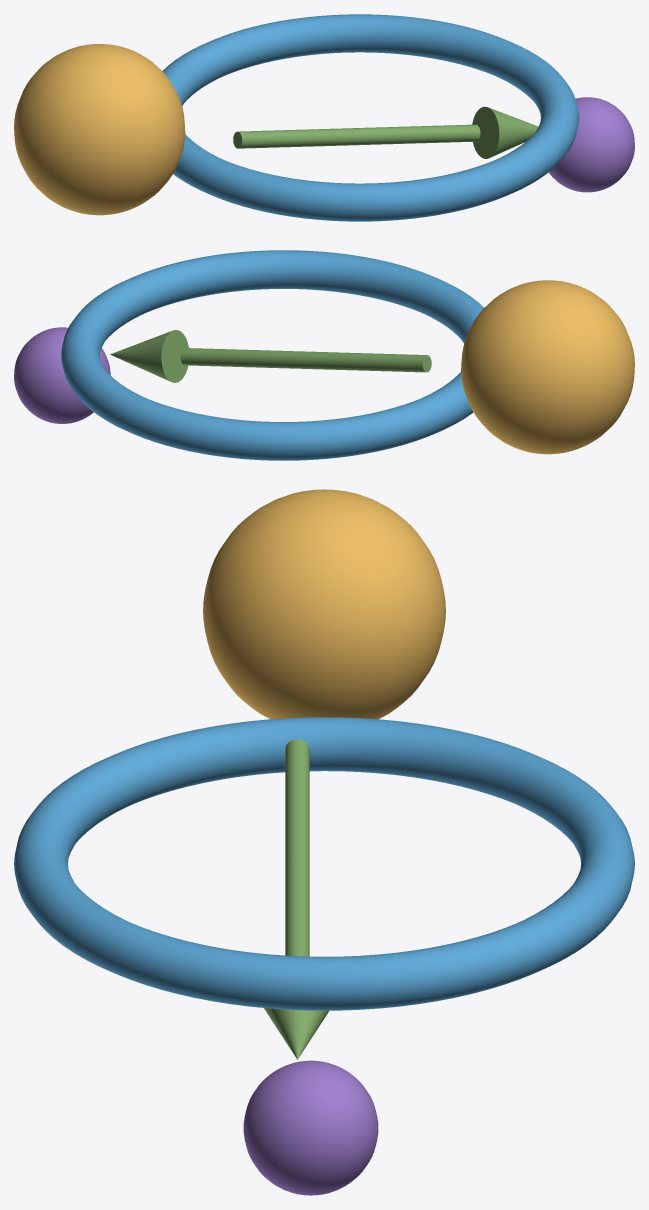
Rendered from biology-health-vaccine.glb.
3 renders of one model, top to bottom at view 1: azimuth 30°, elevation 25°; view 2: azimuth 150°, elevation 25°; view 3: azimuth 270°, elevation 25°, orthographic. The views are drawn at different scales.
Parts seen in each view (by area): view 1: immune-shield-ring, safe-antigen-marker, memory-cell-response, trained-response-arrow-shaft, trained-response-arrow-head; view 2: immune-shield-ring, safe-antigen-marker, memory-cell-response, trained-response-arrow-shaft, trained-response-arrow-head; view 3: immune-shield-ring, safe-antigen-marker, memory-cell-response, trained-response-arrow-shaft, trained-response-arrow-head.
Boxes of the visible parts, x1,y1,x2,y2 form: immune-shield-ring: (162,14,578,221); safe-antigen-marker: (14,44,185,215); memory-cell-response: (549,97,634,192); trained-response-arrow-shaft: (233,124,480,148); trained-response-arrow-head: (472,106,538,158); immune-shield-ring: (61,250,483,460); safe-antigen-marker: (461,280,634,454); memory-cell-response: (14,327,110,423); trained-response-arrow-shaft: (180,348,431,372); trained-response-arrow-head: (110,330,188,382); immune-shield-ring: (14,717,634,1010); safe-antigen-marker: (203,489,445,719); memory-cell-response: (243,1060,378,1195); trained-response-arrow-shaft: (285,739,309,956); trained-response-arrow-head: (264,1008,328,1059).
Size of what is drawn, in the model's own units: 1.45 by 0.58 by 0.92.
